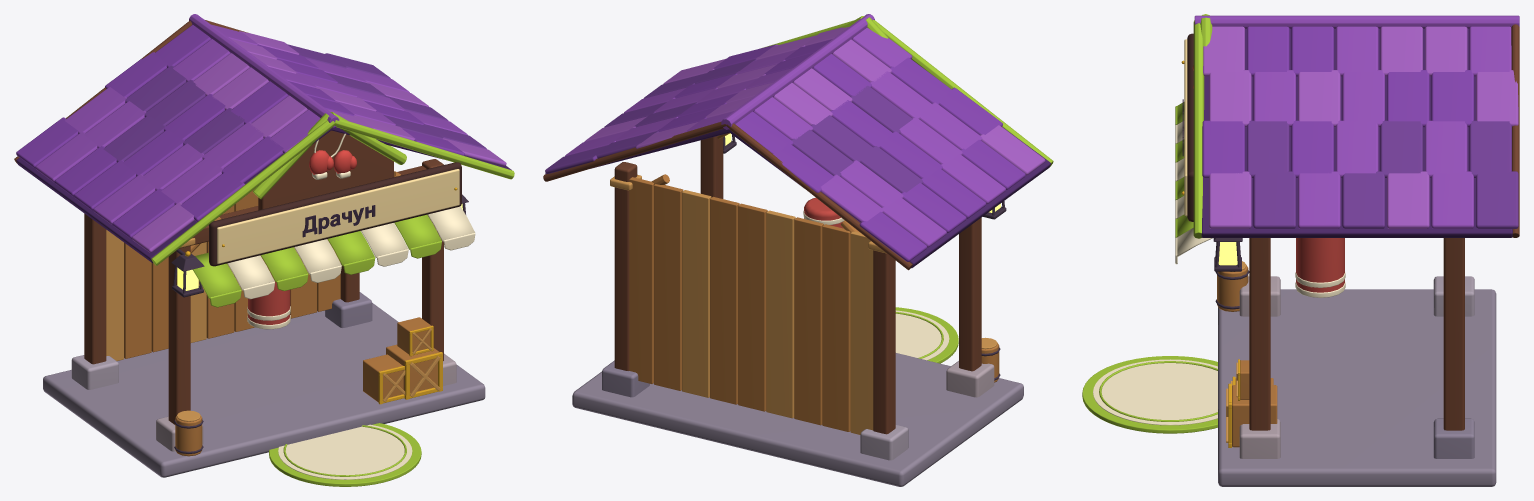
The model's file is Pavilion_Brawler.glb.
3 views of the same model, side by side, from view 1: azimuth 30°, elevation 25°; view 2: azimuth 150°, elevation 25°; view 3: azimuth 270°, elevation 25° (orthographic). The views are drawn at different scales.
Parts seen in each view (by area): view 1: Pavilion_Brawler__Roof, Pavilion_Brawler__Structure, Pavilion_Brawler__SignFrame, Pavilion_Brawler__Awning, Pavilion_Brawler__DisplayProps, Pavilion_Brawler__Marker, Pavilion_Brawler__Emblem, Pavilion_Brawler__Fixtures, Pavilion_Brawler__SignText; view 2: Pavilion_Brawler__Structure, Pavilion_Brawler__Roof, Pavilion_Brawler__Marker, Pavilion_Brawler__DisplayProps; view 3: Pavilion_Brawler__Roof, Pavilion_Brawler__Structure, Pavilion_Brawler__Marker, Pavilion_Brawler__DisplayProps, Pavilion_Brawler__Awning, Pavilion_Brawler__SignFrame, Pavilion_Brawler__Fixtures.
Part boxes in pixels (bbox=[...]): Pavilion_Brawler__Roof: bbox=[14, 14, 514, 265]; Pavilion_Brawler__Structure: bbox=[43, 159, 485, 477]; Pavilion_Brawler__SignFrame: bbox=[209, 162, 461, 266]; Pavilion_Brawler__Awning: bbox=[193, 206, 475, 307]; Pavilion_Brawler__DisplayProps: bbox=[174, 255, 442, 456]; Pavilion_Brawler__Marker: bbox=[269, 423, 421, 486]; Pavilion_Brawler__Emblem: bbox=[309, 133, 356, 179]; Pavilion_Brawler__Fixtures: bbox=[171, 194, 468, 297]; Pavilion_Brawler__SignText: bbox=[302, 205, 375, 237]; Pavilion_Brawler__Structure: bbox=[572, 133, 1023, 486]; Pavilion_Brawler__Roof: bbox=[543, 14, 1053, 270]; Pavilion_Brawler__Marker: bbox=[895, 307, 958, 363]; Pavilion_Brawler__DisplayProps: bbox=[803, 197, 1000, 382]; Pavilion_Brawler__Roof: bbox=[1193, 14, 1519, 238]; Pavilion_Brawler__Structure: bbox=[1218, 238, 1496, 486]; Pavilion_Brawler__Marker: bbox=[1082, 356, 1217, 433]; Pavilion_Brawler__DisplayProps: bbox=[1215, 238, 1345, 447]; Pavilion_Brawler__Awning: bbox=[1175, 102, 1212, 264]; Pavilion_Brawler__SignFrame: bbox=[1181, 33, 1193, 221]; Pavilion_Brawler__Fixtures: bbox=[1213, 238, 1242, 271].
Size of the model in its own units: 13.14 by 11.49 by 11.93.
